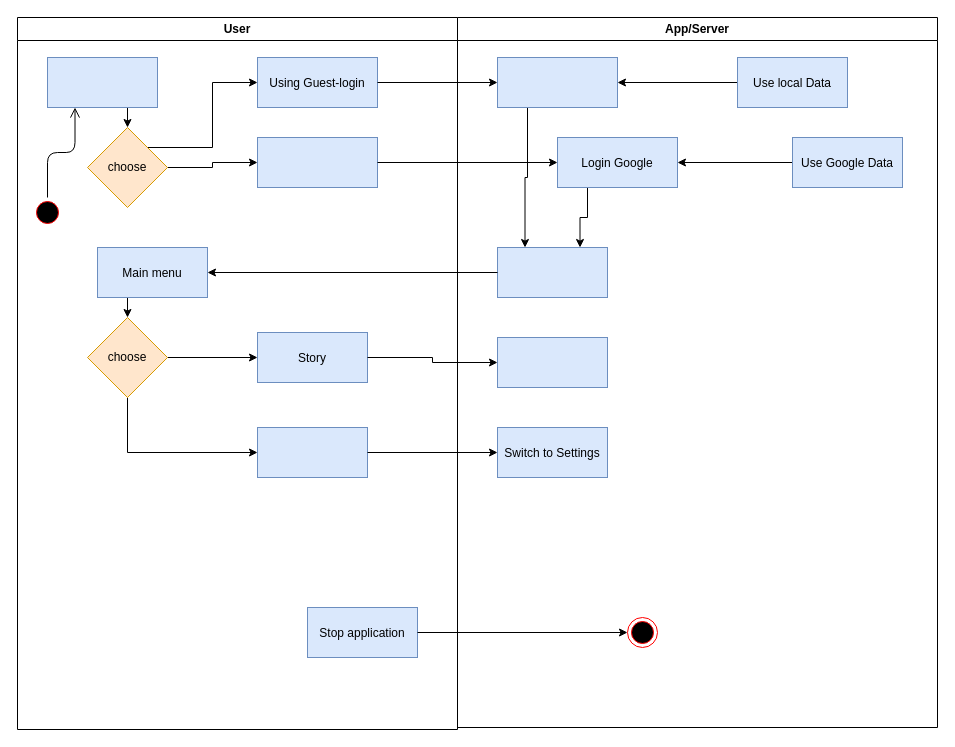
Some shapes in this 955 by 747 pixel diagram are drawn without their labels. The centre of each missing label's shape, as x and y in pixels:
go to main screen: point (552, 272)
Login: point (102, 82)
Login Guest: point (557, 82)
Settings: point (312, 452)
Start the Game in Storymode: point (552, 362)
Using Google-login: point (317, 162)
